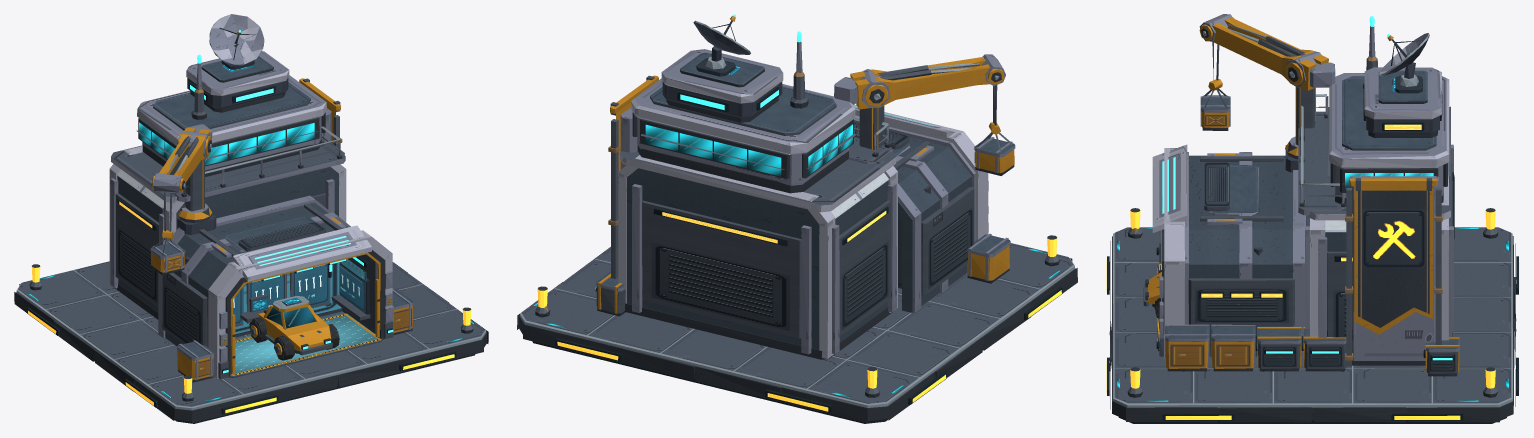
The model's file is TO03_TallerAvanzado_Distancia.fbx.
The picture shows the model from 3 angles, left to right: view 1: azimuth 30°, elevation 25°; view 2: azimuth 150°, elevation 25°; view 3: azimuth 270°, elevation 25°; orthographic projection. The views are drawn at different scales.
Parts seen in each view (by area): view 1: TallerDeObrasDistante_3; view 2: TallerDeObrasDistante_3; view 3: TallerDeObrasDistante_3.
Boxes of the visible parts, bbox=[...] form: TallerDeObrasDistante_3: bbox=[14, 14, 488, 423]; TallerDeObrasDistante_3: bbox=[517, 14, 1077, 423]; TallerDeObrasDistante_3: bbox=[1106, 14, 1519, 423].
Size of the model in its own units: 6.59 by 5.33 by 6.29.
